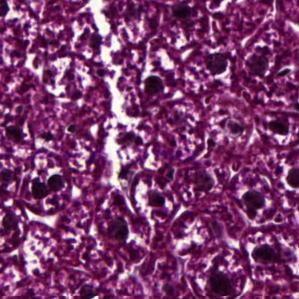inflammation: (232, 181, 281, 225), (197, 43, 237, 84), (167, 205, 204, 248), (258, 110, 298, 145), (26, 168, 67, 200), (133, 71, 172, 103), (136, 69, 169, 102)
